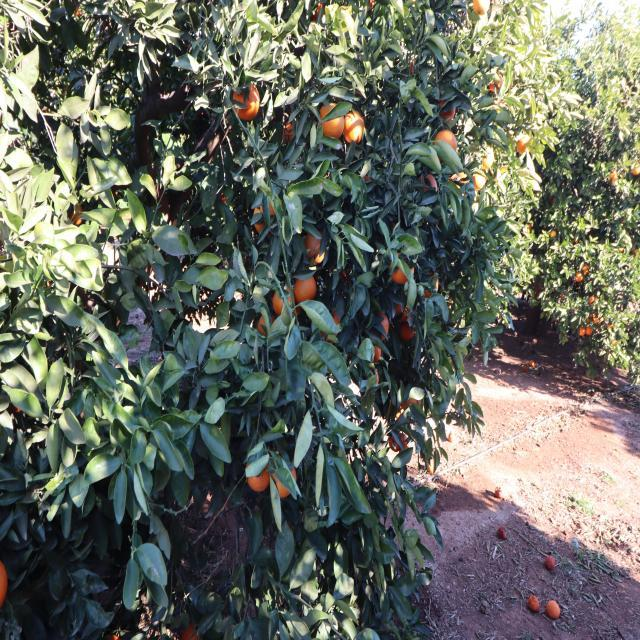Jeruk Sudah Matang: (239, 447, 273, 494), (248, 194, 280, 239), (316, 98, 346, 142), (230, 82, 263, 121), (344, 100, 369, 146), (388, 250, 417, 289), (431, 127, 461, 163), (275, 460, 300, 502), (292, 270, 318, 310), (305, 226, 328, 270), (414, 172, 441, 206), (270, 284, 296, 318), (438, 91, 458, 128), (276, 116, 300, 146), (421, 269, 444, 299), (218, 174, 237, 210), (388, 426, 410, 456), (447, 170, 470, 198), (256, 308, 278, 337), (373, 308, 392, 341), (318, 328, 339, 357), (70, 200, 88, 233), (310, 0, 337, 21), (407, 388, 427, 416), (477, 144, 497, 172), (386, 396, 406, 423), (394, 297, 412, 324), (484, 72, 504, 95), (367, 366, 385, 390), (330, 303, 345, 330), (400, 322, 420, 342), (472, 0, 489, 20), (370, 340, 384, 364), (516, 131, 531, 153), (472, 168, 486, 190), (408, 55, 423, 75), (447, 292, 460, 308), (367, 0, 380, 11), (631, 162, 640, 176), (582, 260, 592, 272), (574, 272, 584, 284), (527, 222, 536, 235), (611, 178, 620, 190), (588, 293, 596, 305), (608, 320, 616, 330), (580, 326, 586, 339), (575, 272, 582, 282), (552, 230, 559, 240), (561, 292, 567, 302), (588, 327, 593, 339), (610, 170, 618, 177), (592, 316, 599, 322), (600, 312, 604, 322)
